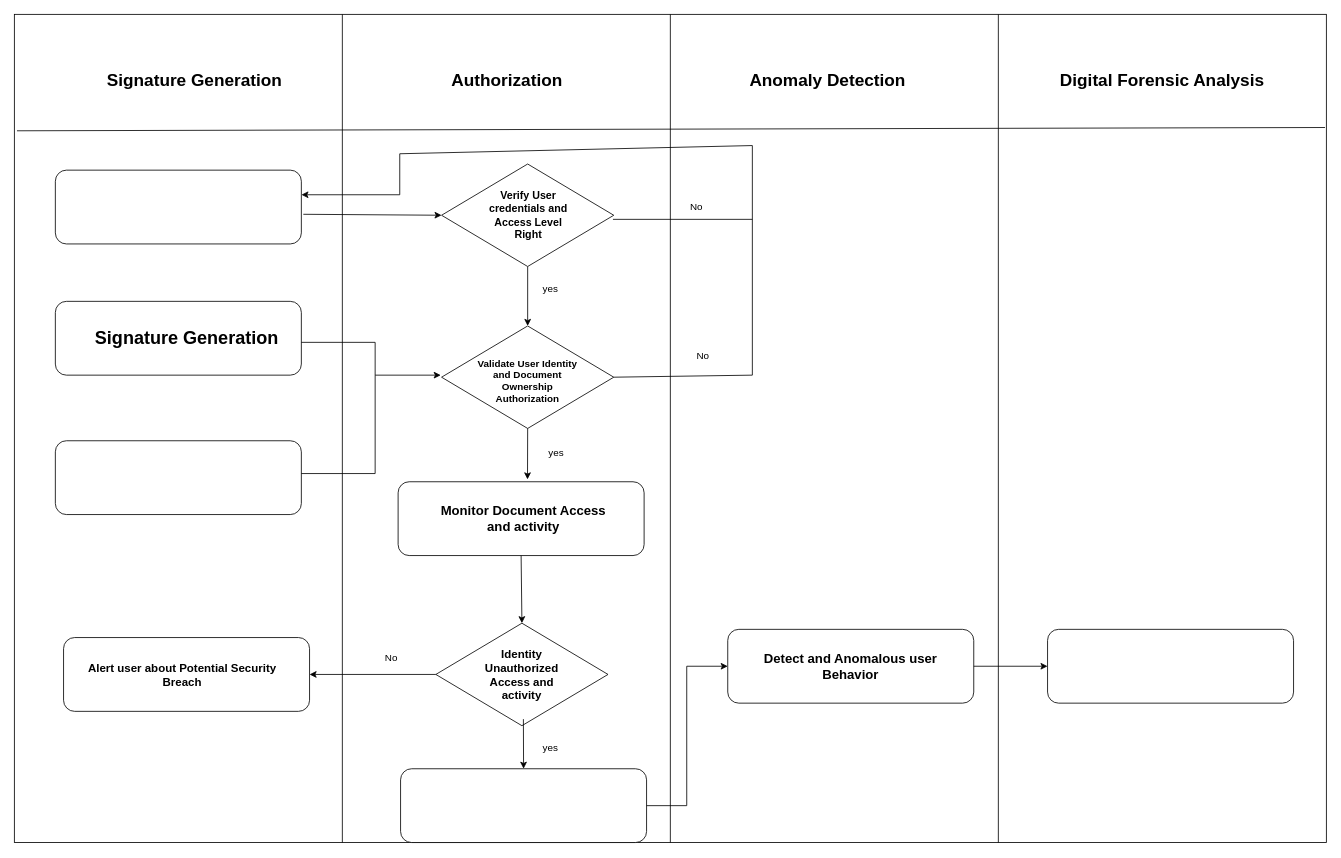
Image size: 1341x858. Some labels were removed from this diagram. Each missing label, with the centre of its shape:
"Alert user and Admins about potential Security Breaches" goes at [523,805].
"Analyze Suspicious Document and user Activity" goes at [1170,666].
"Document Verification" goes at [178,477].
"User Input" goes at [178,206].
